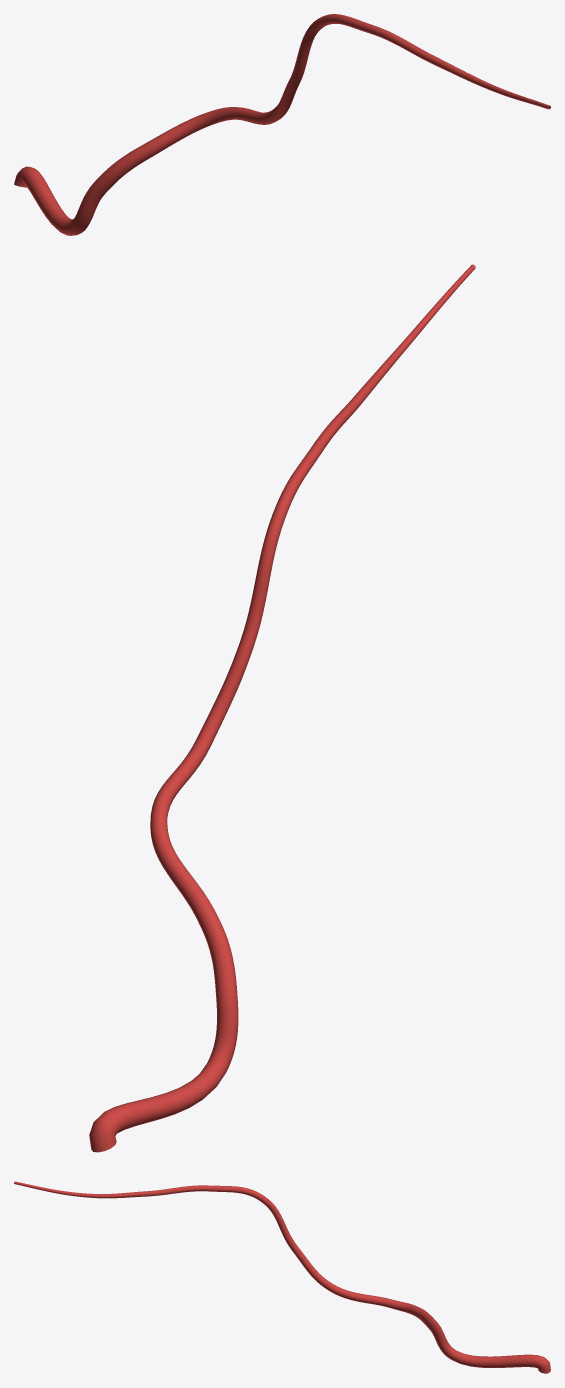
3 views of the same model, one above another, from view 1: azimuth 30°, elevation 25°; view 2: azimuth 150°, elevation 25°; view 3: azimuth 270°, elevation 25° (orthographic). The views are drawn at different scales.
Visible parts, largest first — view 1: 右侧颈深动脉; view 2: 右侧颈深动脉; view 3: 右侧颈深动脉.
Part boxes in pixels (x1,y1,x2,y2): 右侧颈深动脉: [14, 14, 550, 235]; 右侧颈深动脉: [89, 264, 475, 1152]; 右侧颈深动脉: [14, 1181, 550, 1373].
Bounding box in the file's own units: 0.0249 × 0.0557 × 0.1182.
